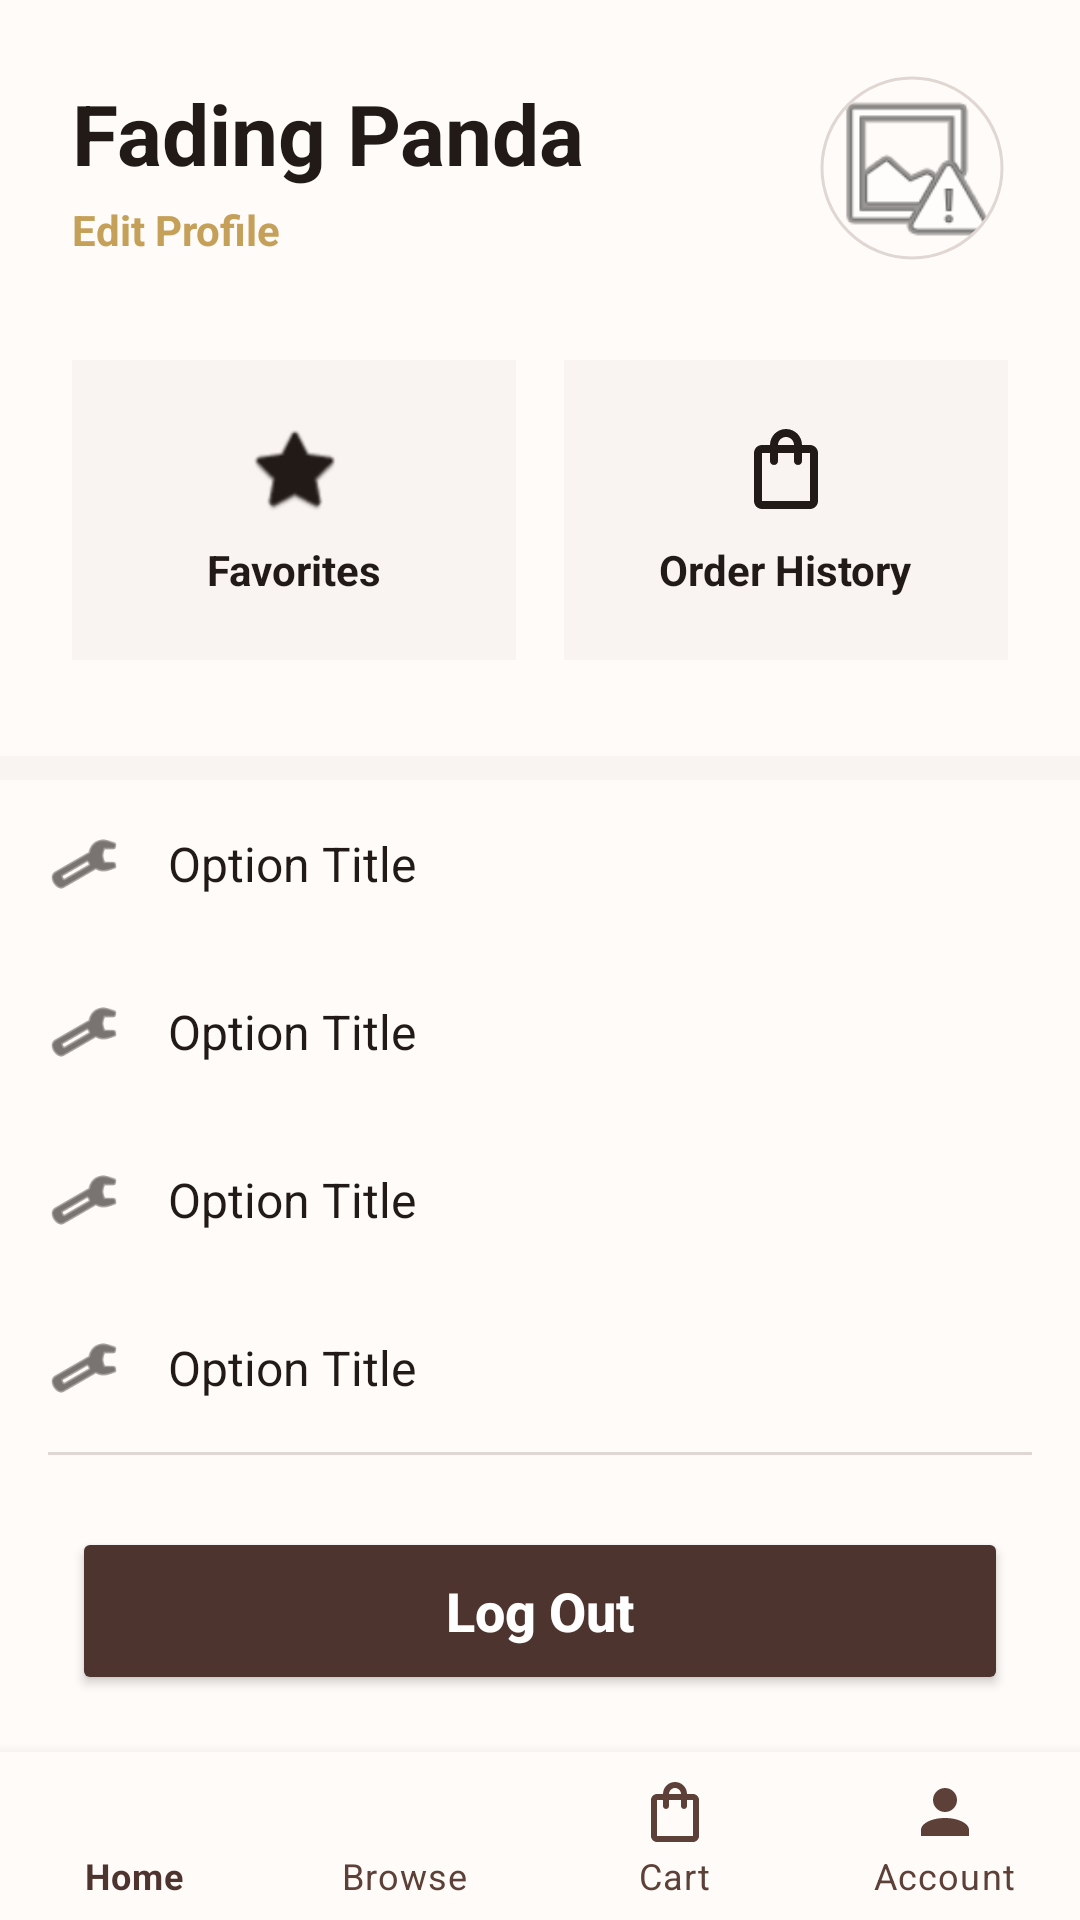

Named icons in this screenshot (1080 × 1920) and their centers, (x,y):
preferences: (83,864), (83,1032), (83,1200), (83,1368)
